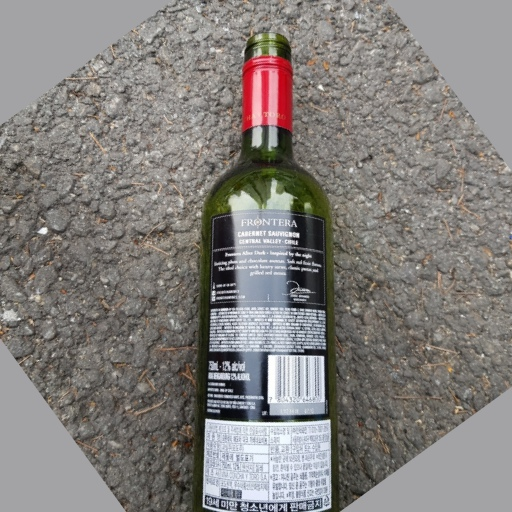Glass_2: (193, 33, 341, 512)
